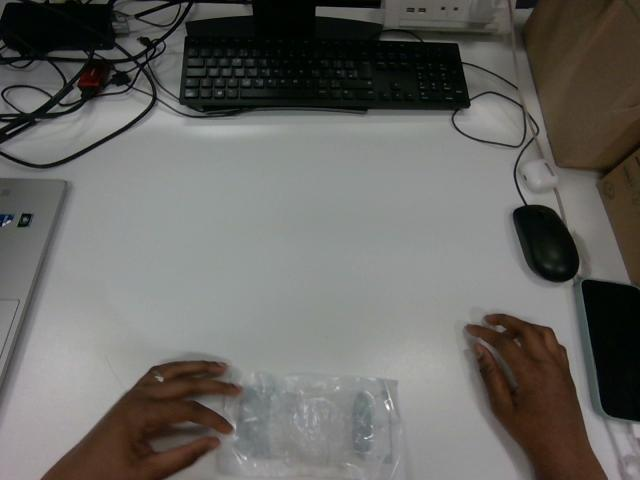gallipot: (218, 373, 401, 479)
